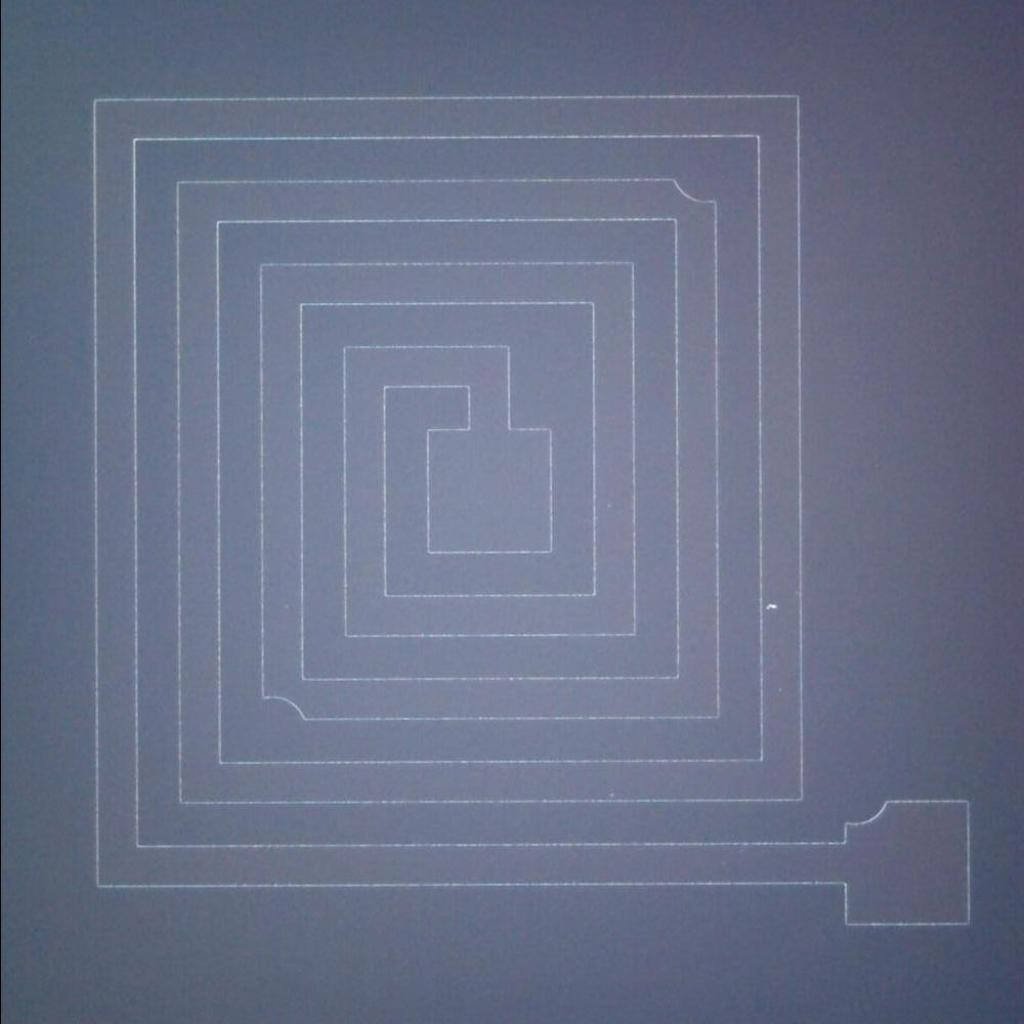curve circuit: (249, 687, 314, 735), (663, 166, 727, 212), (834, 791, 896, 833)
